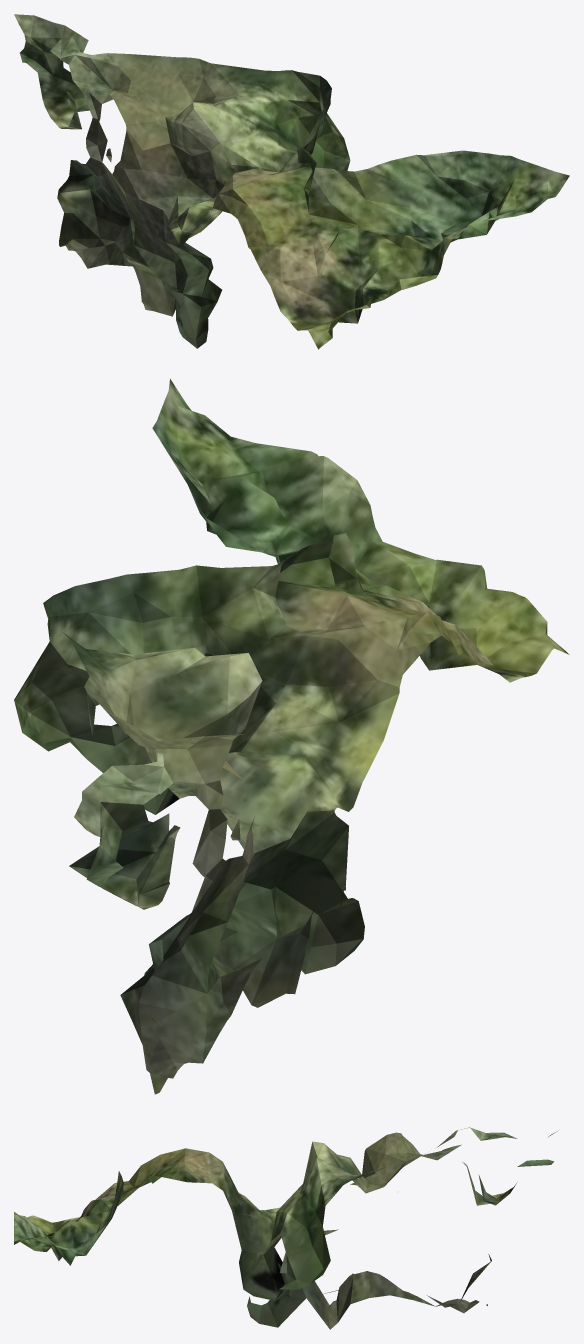
3 renders of one model, top to bottom at view 1: azimuth 30°, elevation 25°; view 2: azimuth 150°, elevation 25°; view 3: azimuth 270°, elevation 25°, orthographic. The views are drawn at different scales.
Bounding box in the file's own units: 20.9 × 16.93 × 43.79.
Materials: 2 (2 with a texture image).
